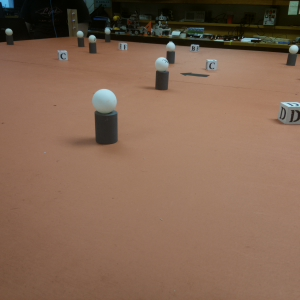blockB: (191, 44, 199, 53)
blockC: (207, 59, 217, 71), (58, 50, 68, 62)
blockD: (278, 101, 300, 127)
blockF: (119, 42, 127, 50)
corner: (67, 9, 79, 36)
obstacle: (93, 89, 118, 145), (156, 56, 170, 91), (287, 41, 298, 68), (4, 27, 15, 45), (166, 43, 176, 62), (76, 31, 85, 47), (88, 35, 96, 53), (104, 28, 113, 42)
start: (179, 70, 210, 79)
